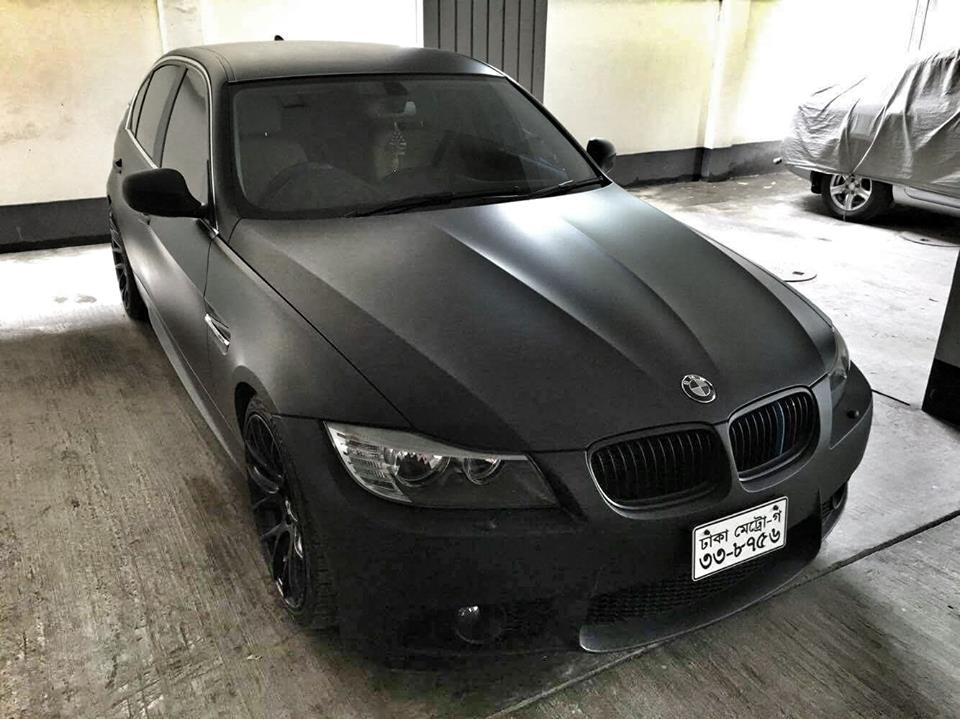registration_plate: (691, 495, 789, 582)
